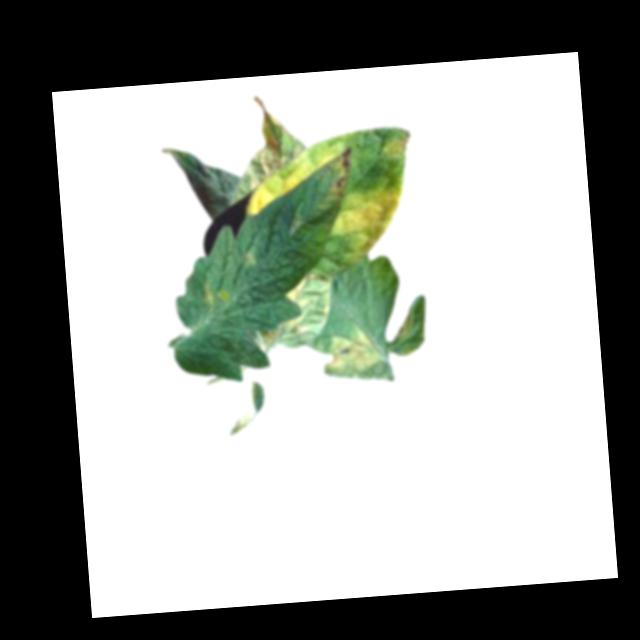Leaf_Mold: (239, 142, 336, 214), (332, 185, 408, 257), (279, 270, 334, 336), (321, 322, 381, 377), (379, 128, 417, 158), (332, 146, 354, 192)
